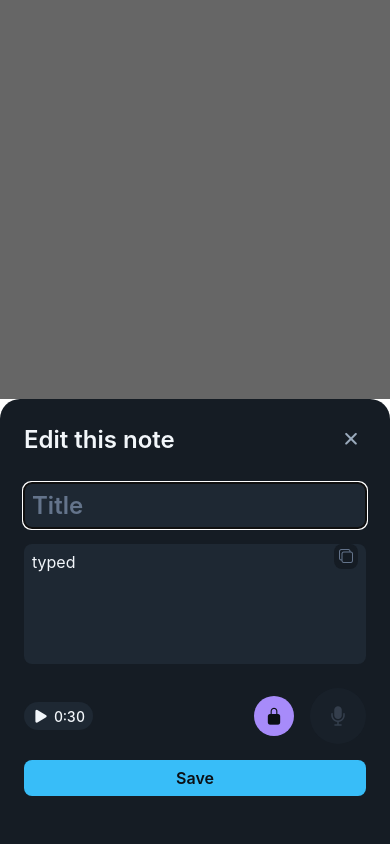
Test case: keeping a recording › gives both back the moment it is unlocked
Click the switch named "Unlock this recording so it can be replaced" at (274, 716), box [254, 696, 294, 736]
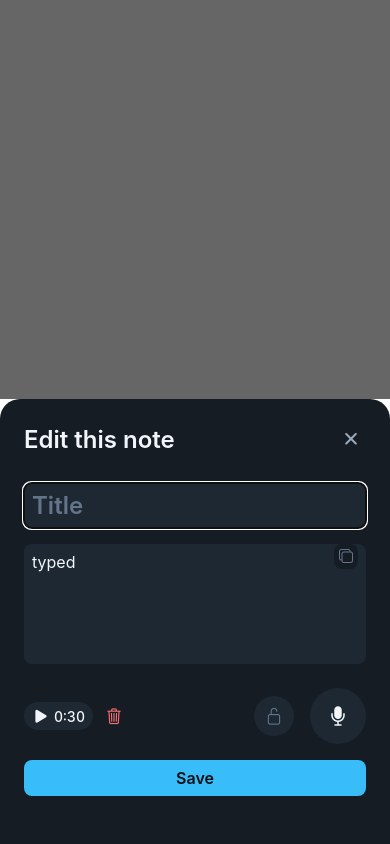
Expected: the button named "Record a voice note" is shown, [310, 688, 366, 744]
Expected: the button named "Delete the recording" is shown, [101, 702, 127, 730]
